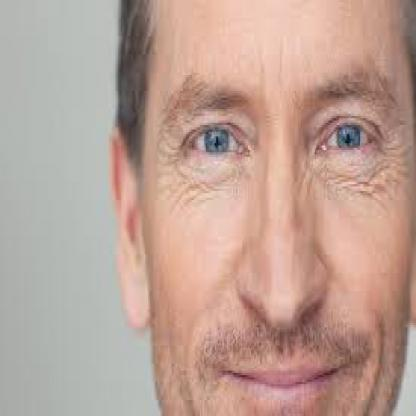puffyeye: (184, 152, 235, 178), (325, 150, 374, 164)
wrinkle: (325, 171, 398, 193), (386, 113, 408, 164), (154, 130, 170, 175), (176, 182, 204, 204)
